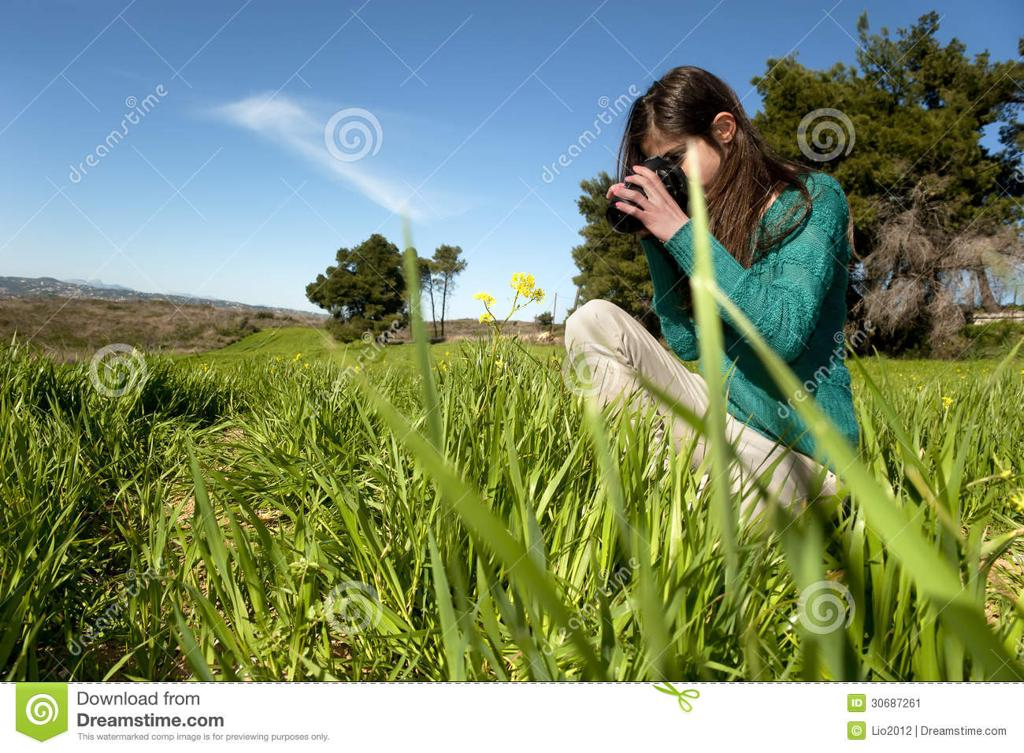face: (638, 132, 720, 212)
